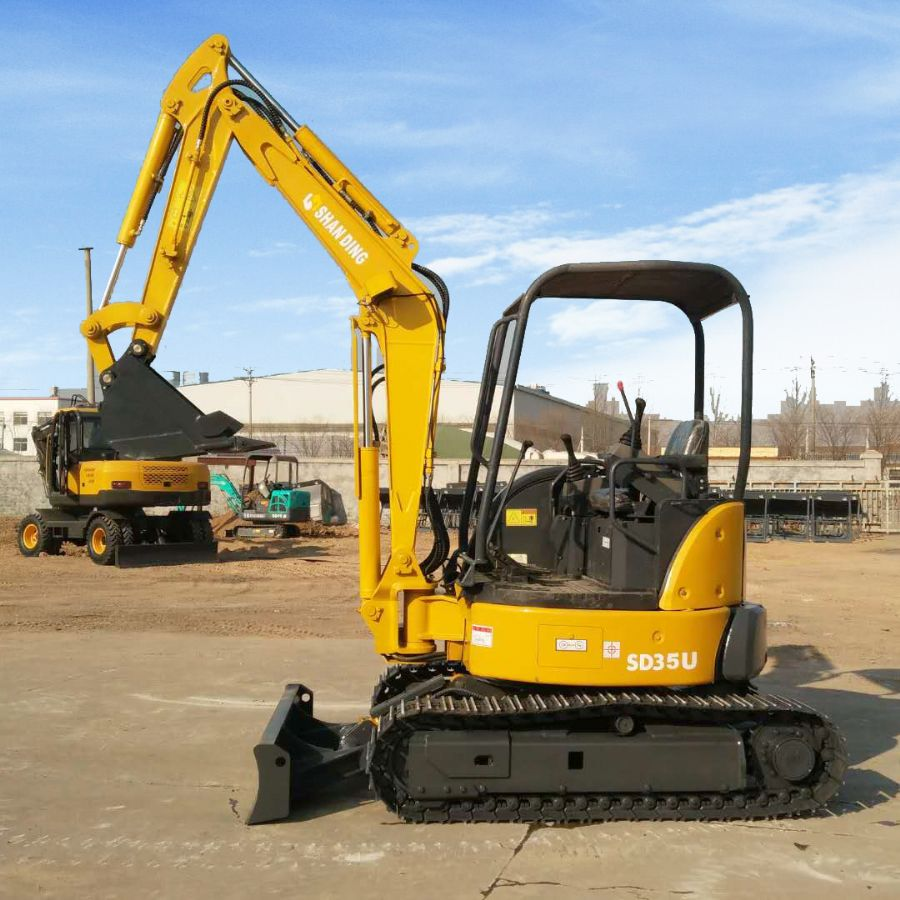excavator: (77, 17, 862, 828)
